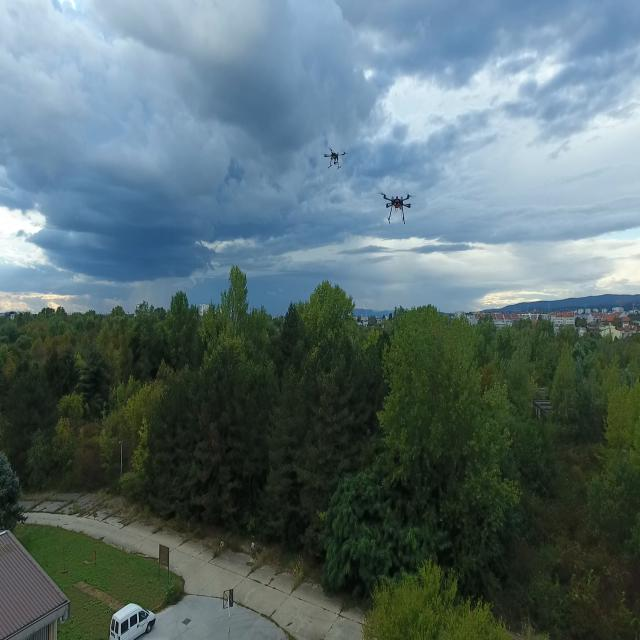UAV: (375, 184, 420, 227), (320, 138, 350, 176)
